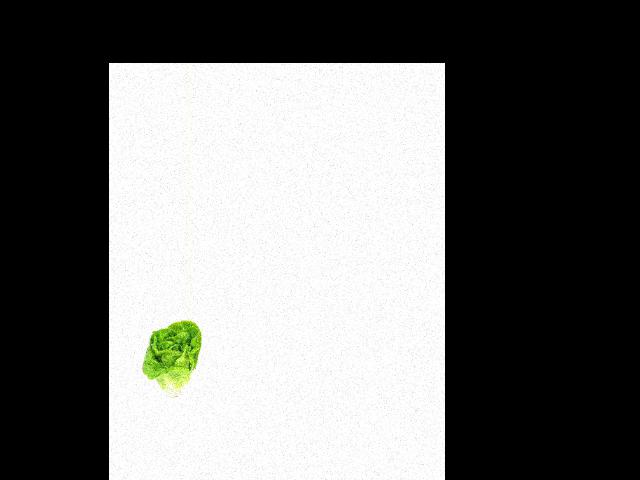lettuce: (138, 320, 203, 400)
